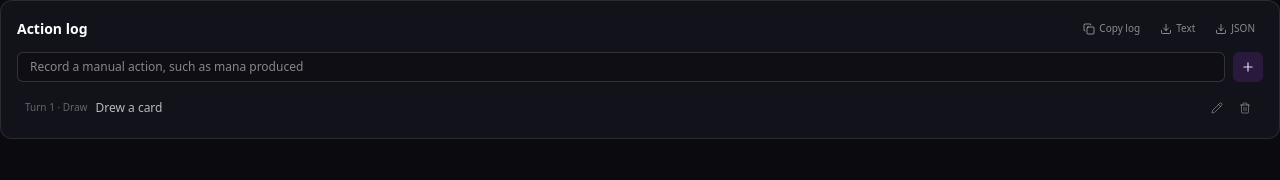
Test: PlaytestActionLog › explains when the browser blocks clipboard access
Click the button "Copy log". click: (1112, 28)
box: [1075,17,1148,40]
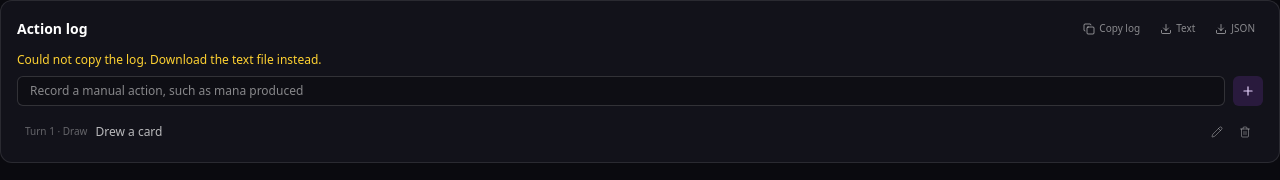
Expected: the message reads "Could not copy the log. Download the text file instead.", [17,51,322,68]
